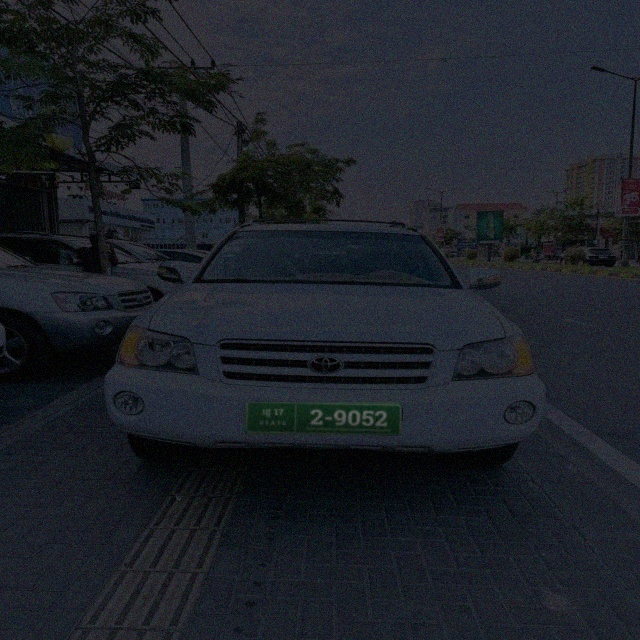Plate Number: (246, 402, 402, 435)
